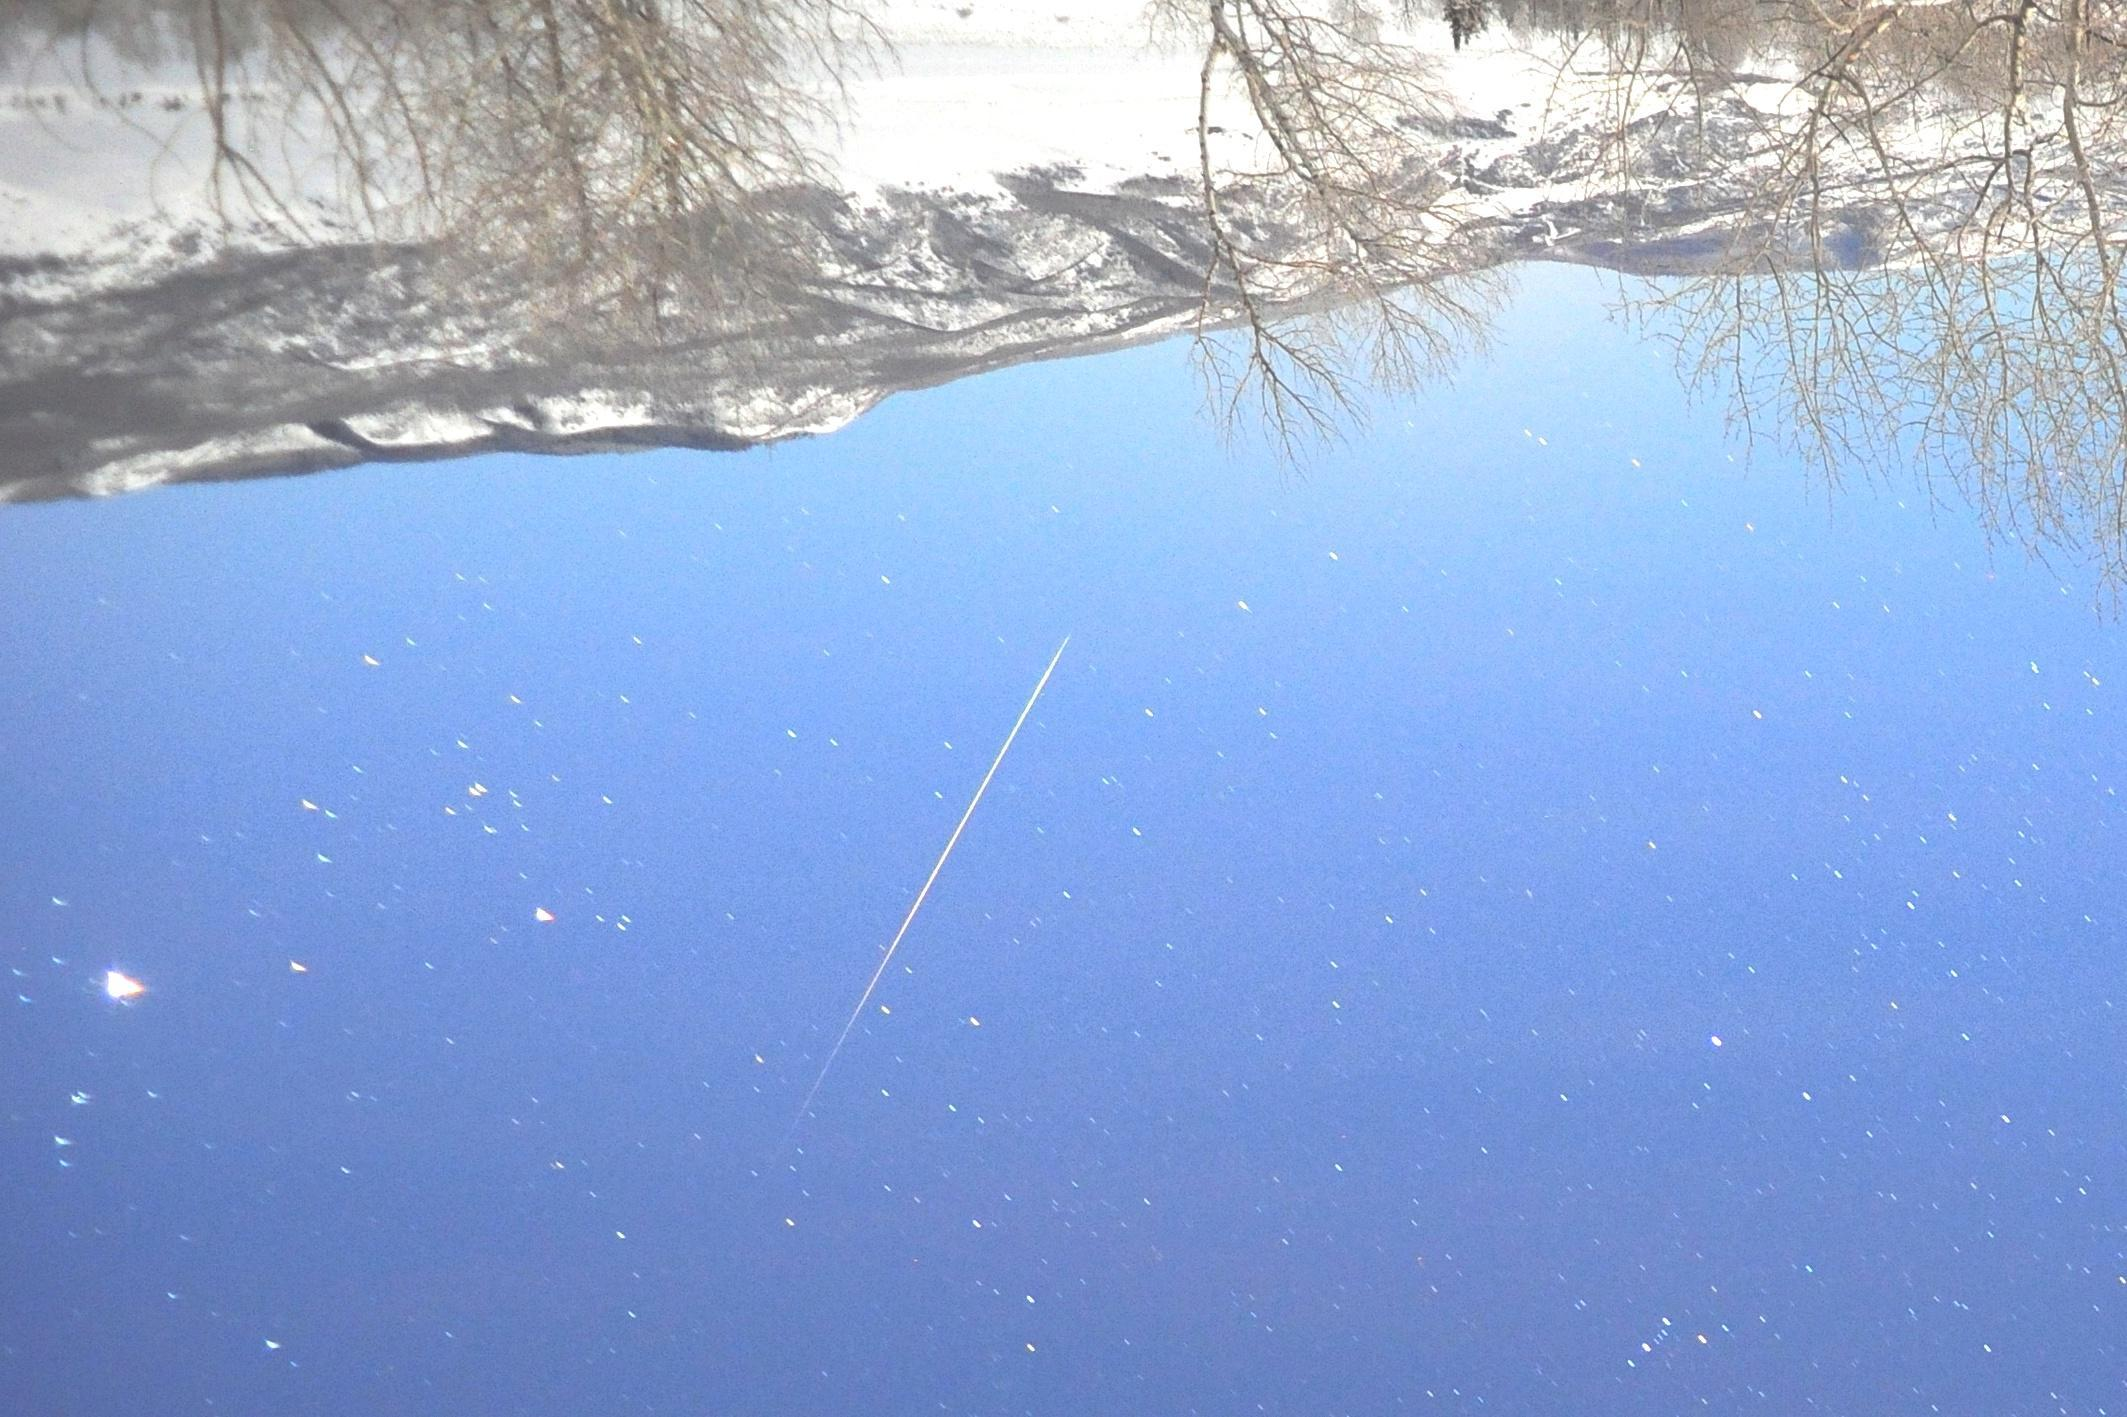meteorite: (778, 618, 1102, 1037)
